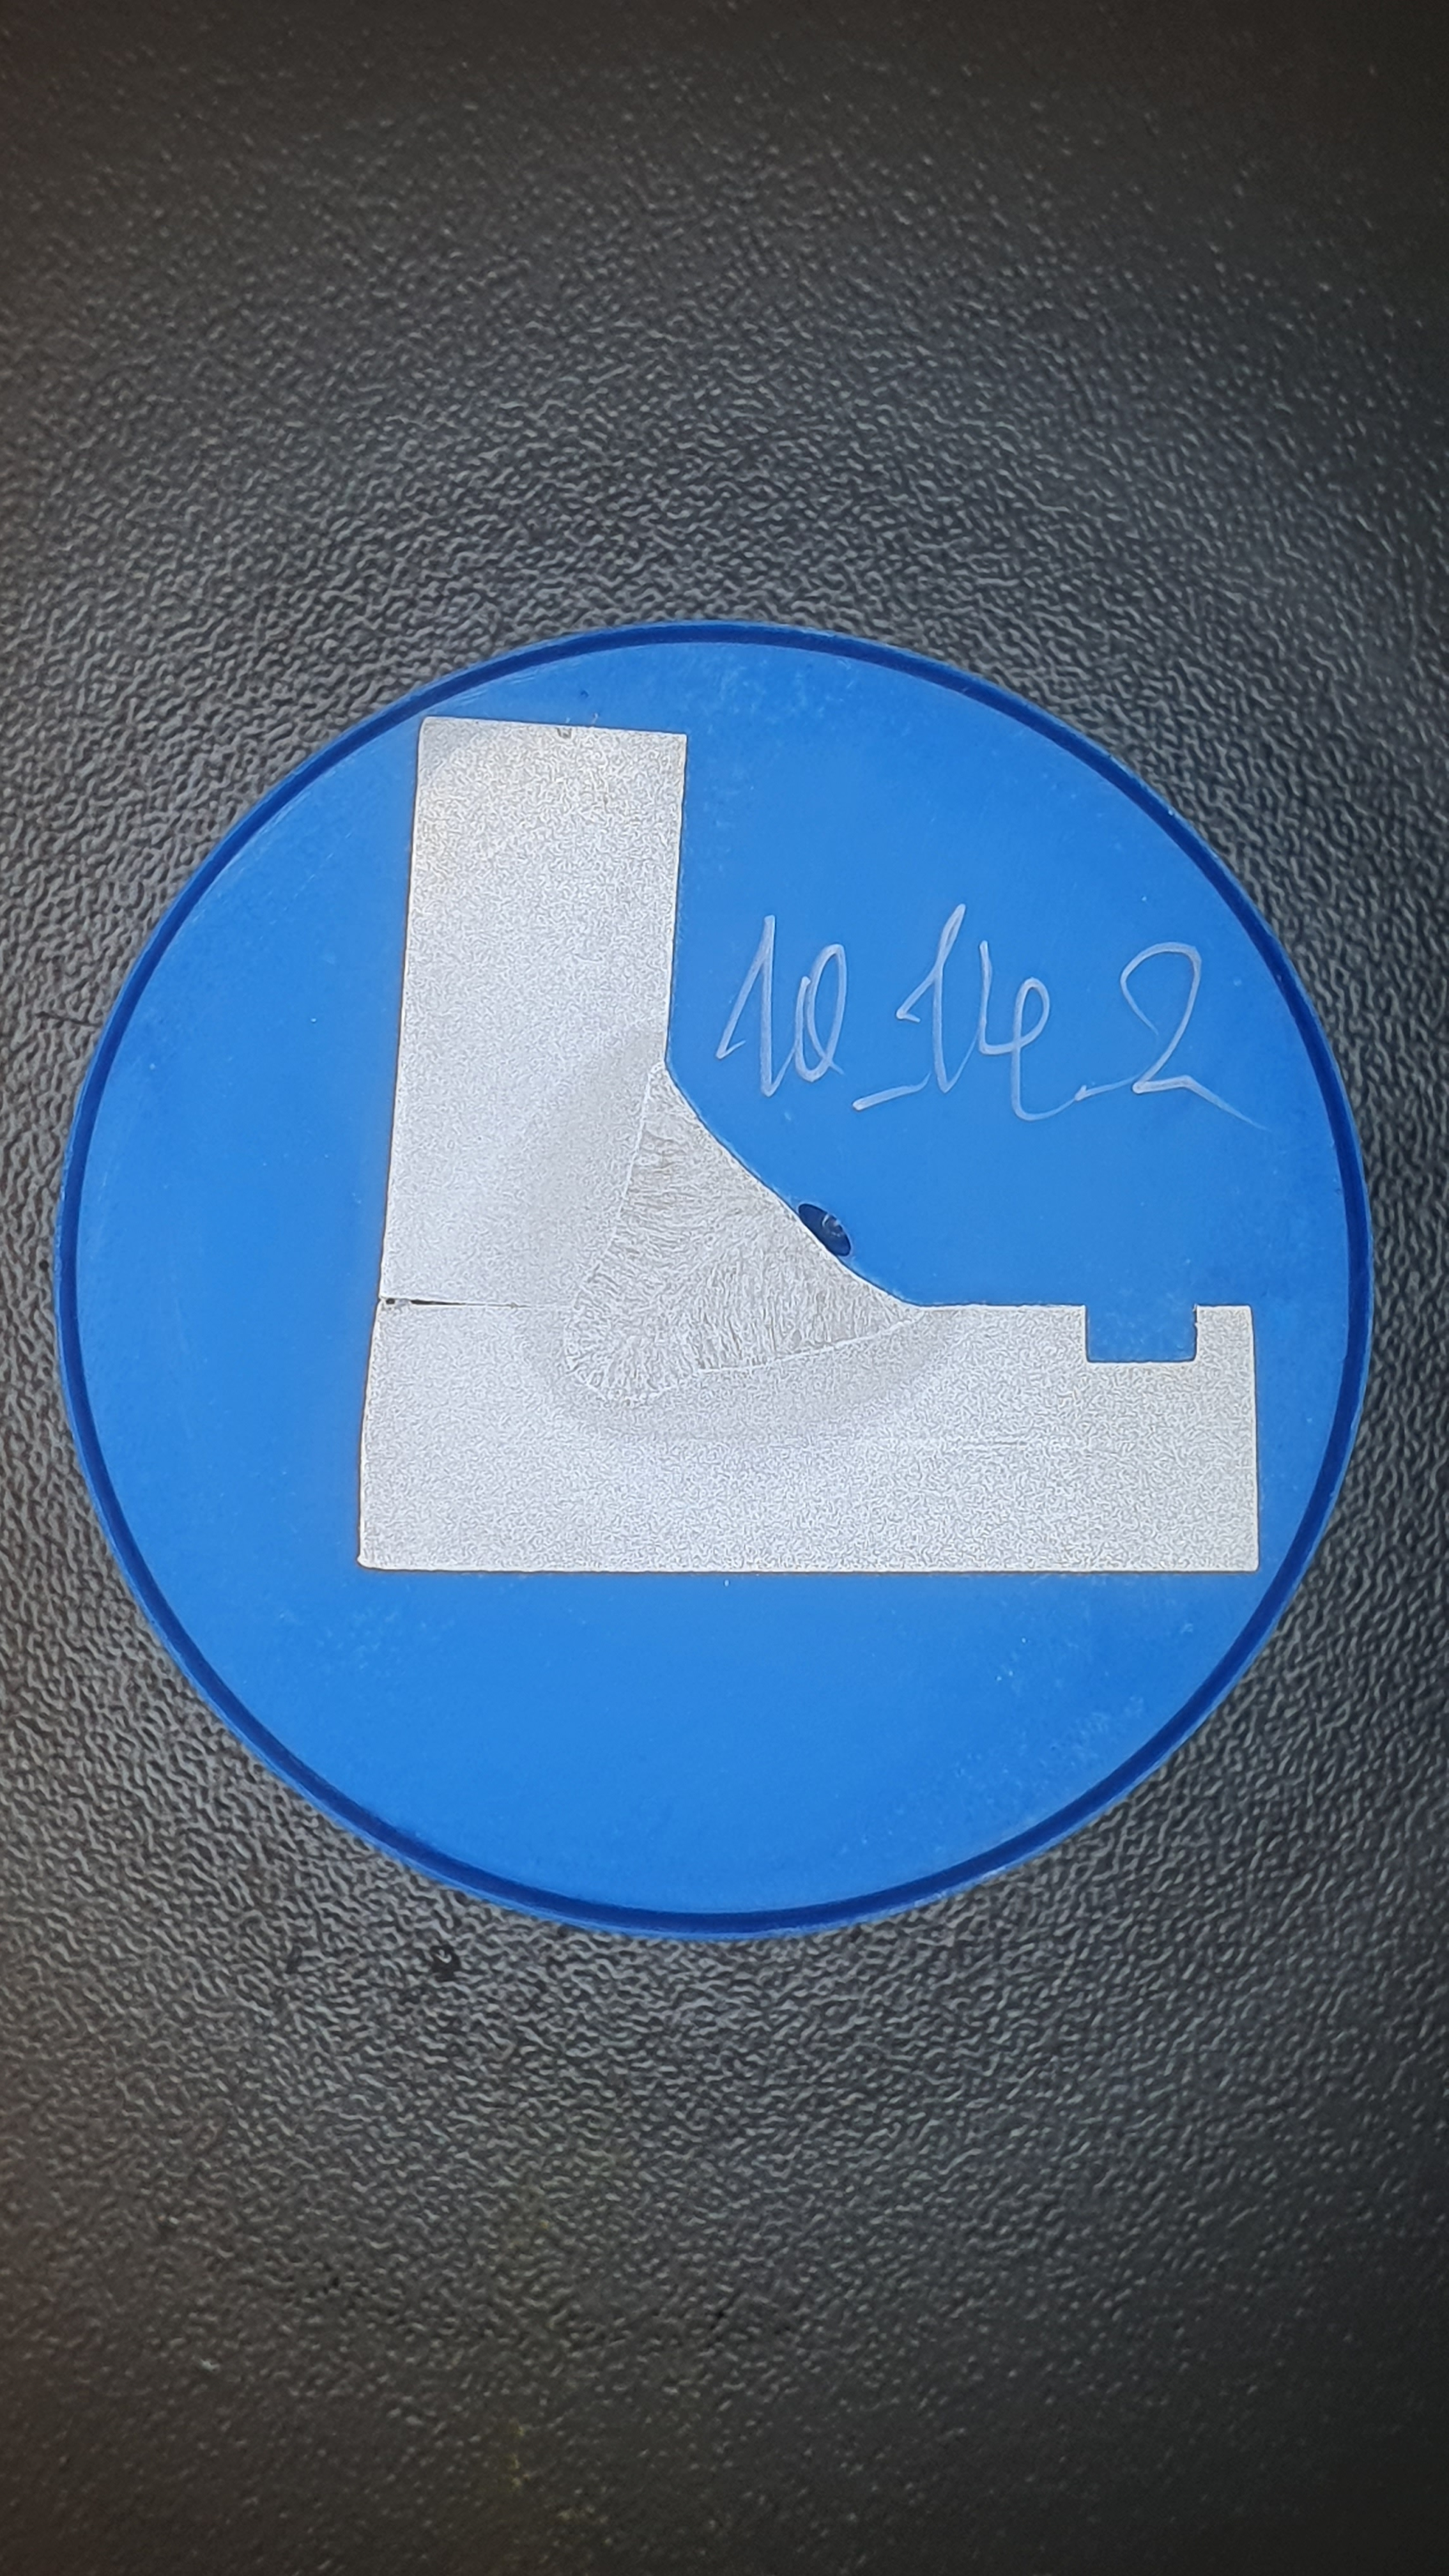Fusion: (563, 1060, 920, 1405)
Hintergrund: (78, 642, 1350, 1914)
Metall: (356, 715, 1260, 1573)
Nebenbereich: (481, 1014, 962, 1445)
